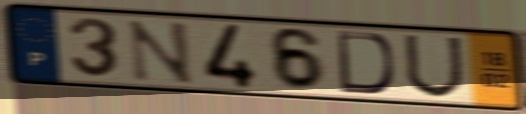3: (65, 16, 119, 80)
4: (202, 21, 262, 91)
6: (265, 26, 330, 93)
D: (334, 29, 398, 96)
N: (125, 18, 198, 86)
U: (401, 33, 466, 100)
